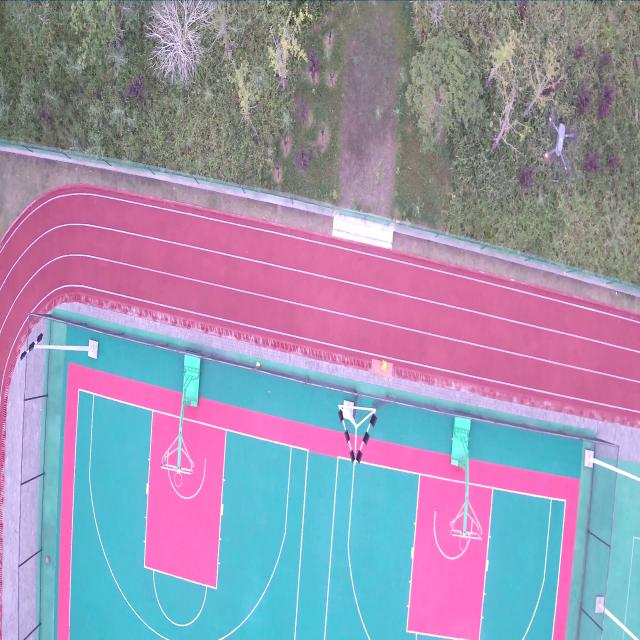UAV: (544, 116, 574, 172)
